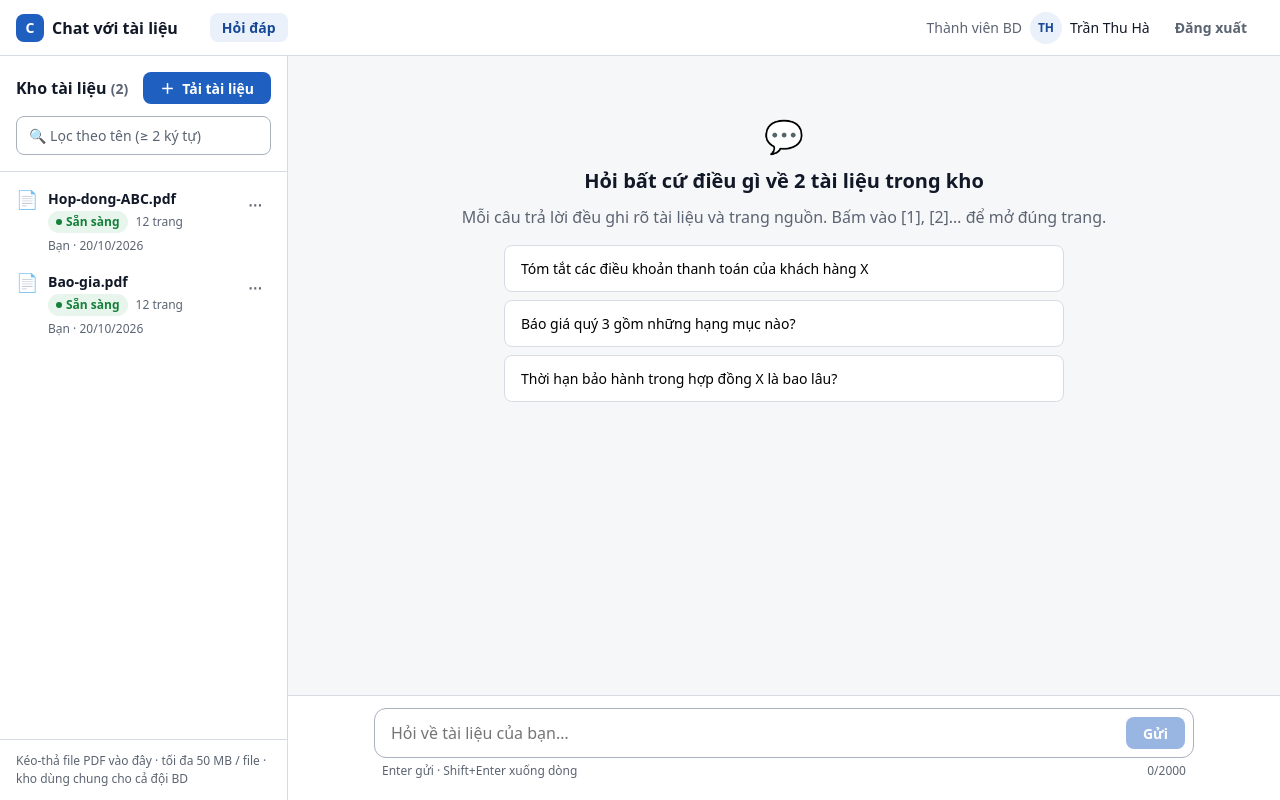
Test: US-305 source panel › a 404 shows 'vừa được gỡ' and crosses out the citations (EC-15, EC-16)
This screenshot has width=1280, height=800.
Type "Thanh toán?" into the text box named "Câu hỏi về tài liệu" at (750, 733), box 383,717 -> 1118,749
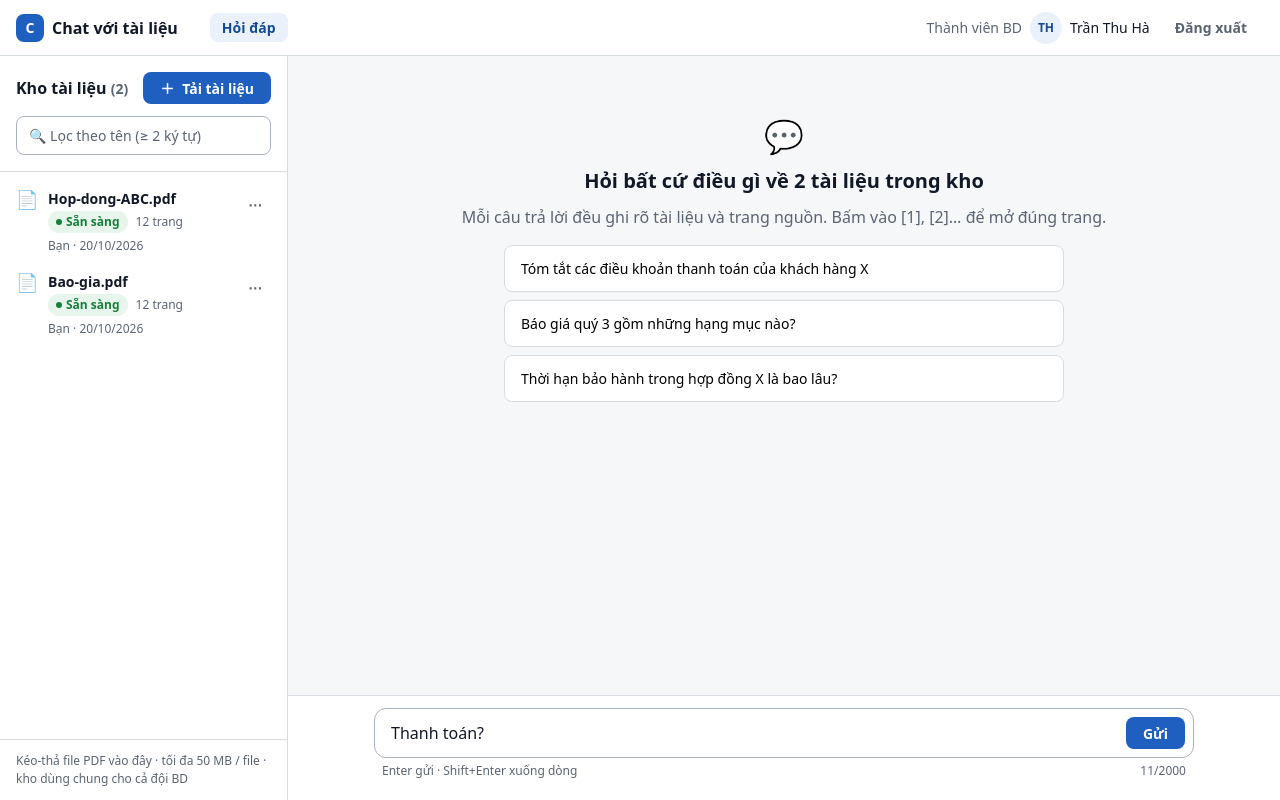
Press Enter in the text box named "Câu hỏi về tài liệu", box 383,717 -> 1118,749
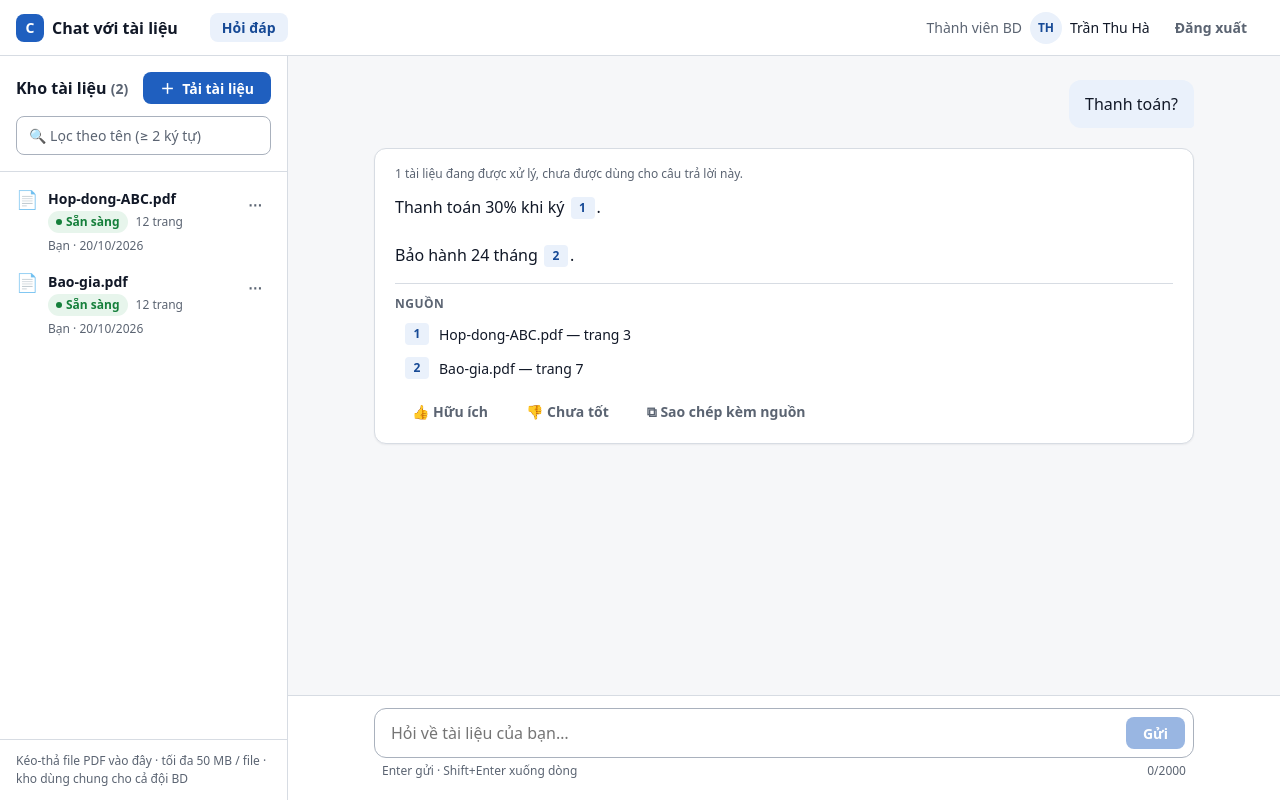
Click the button named "Nguồn 1: Hop-dong-ABC.pdf, trang 3" at (582, 208), box 570,197 -> 594,219
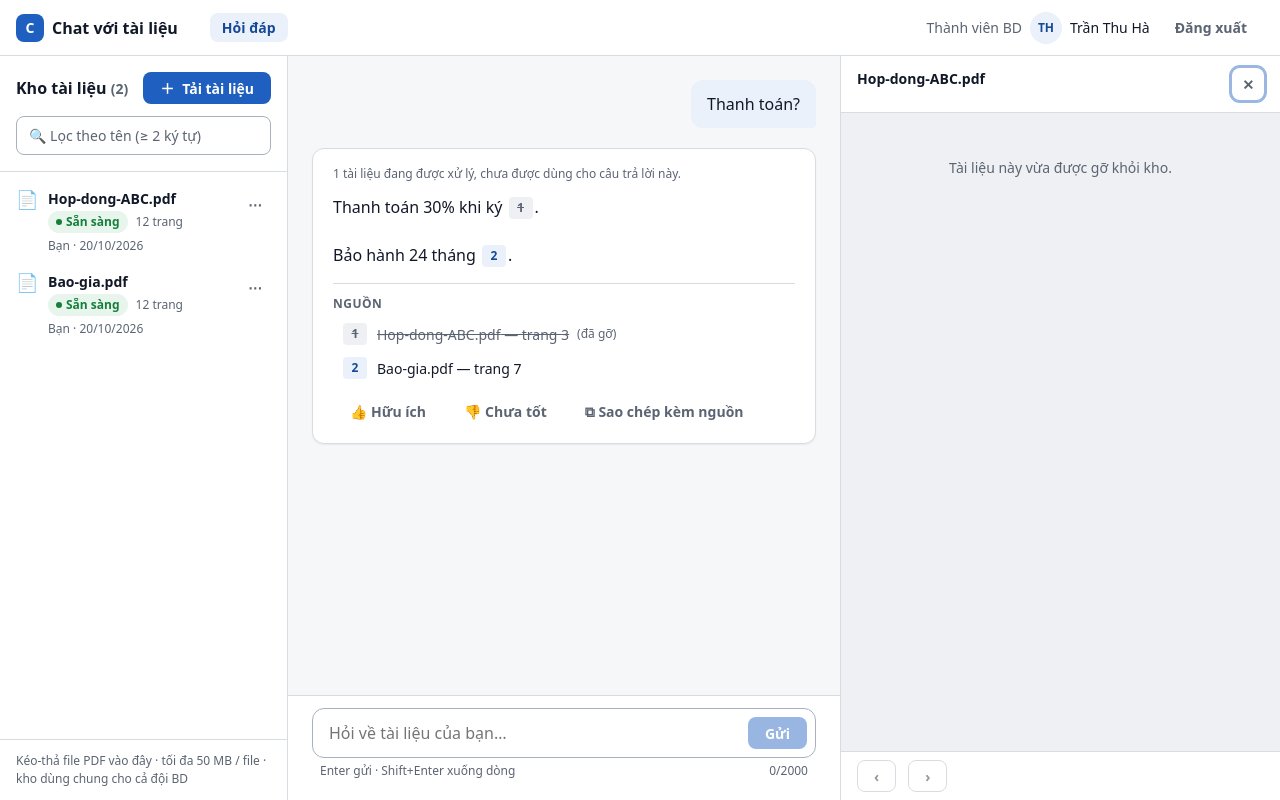
Result: the text "Tài liệu này vừa được gỡ khỏi kho." is shown at 949,158 -> 1172,177
